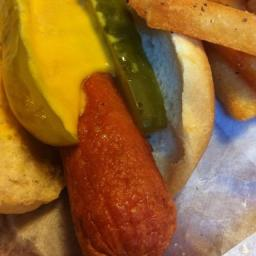hotdog: (58, 73, 178, 256)
